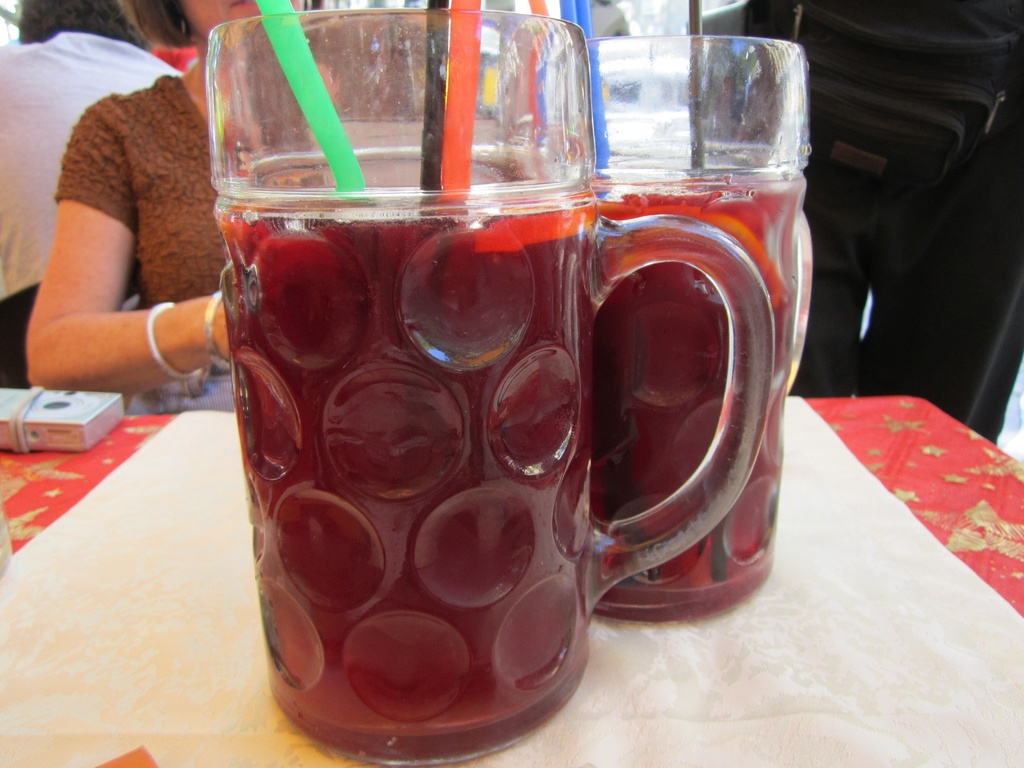Person: (24, 0, 343, 414), (0, 0, 189, 388)
